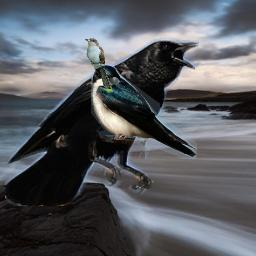Crow: (5, 38, 199, 206)
Cuckoo: (85, 38, 113, 93)
Swallow: (91, 64, 197, 159)
